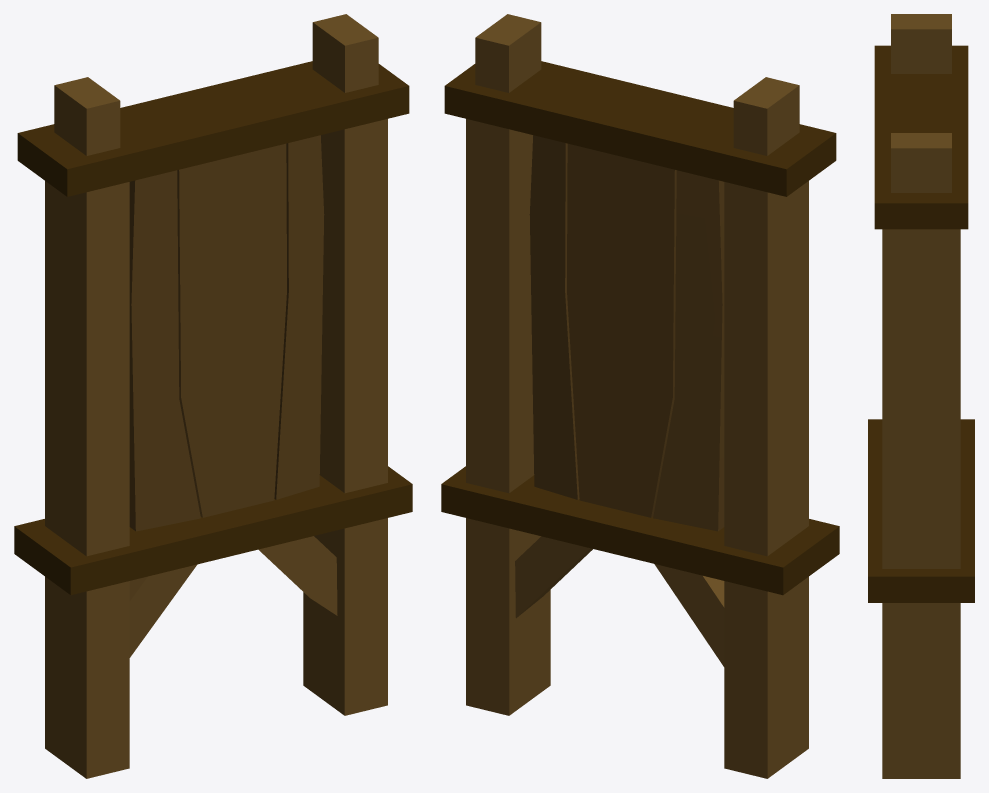
The model's file is mesh_post_baord.fbx.
3 views of the same model, side by side, from view 1: azimuth 30°, elevation 25°; view 2: azimuth 150°, elevation 25°; view 3: azimuth 270°, elevation 25° (orthographic). The views are drawn at different scales.
Parts seen in each view (by area): view 1: post_baord; view 2: post_baord; view 3: post_baord.
Part boxes in pixels (bbox=[...]): post_baord: bbox=[14, 14, 412, 778]; post_baord: bbox=[441, 14, 839, 778]; post_baord: bbox=[868, 14, 974, 778].
Bounding box in the file's own units: 85.73 × 159 × 24.56.
1 material, 1 textured.
